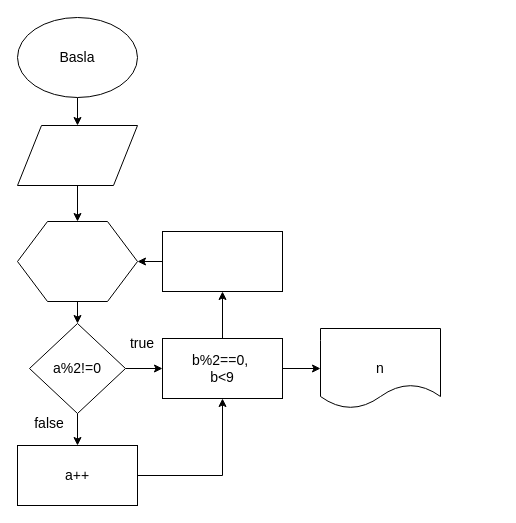
Image size: 516x523. Some labels were removed from this diagram. The box of each missing label's shape, as (x1, y1, x2, y2) in pixels:
b+=2: (162, 230, 282, 292)
n, m: (16, 124, 138, 186)
n=10a+b: (16, 220, 138, 302)
